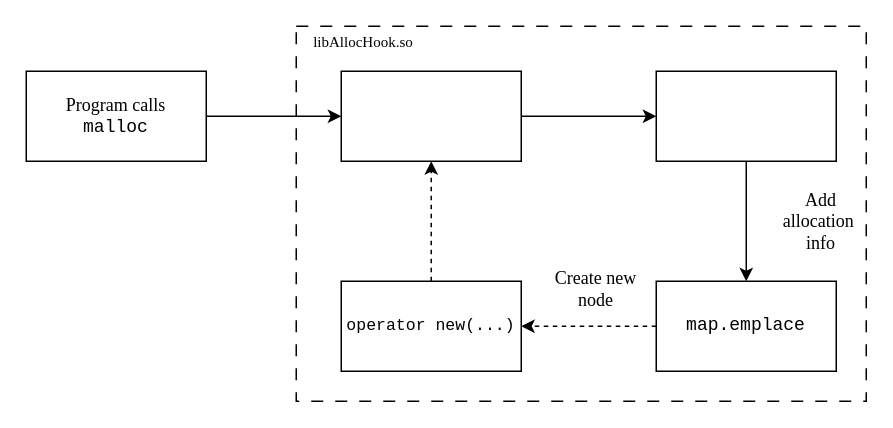
The diagram is 893 pixels wide and 428 high, and some of its shapes have lost their labels. Each missing label, with the box of its shape:
log: (655, 70, 836, 161)
malloc: (340, 70, 521, 161)
